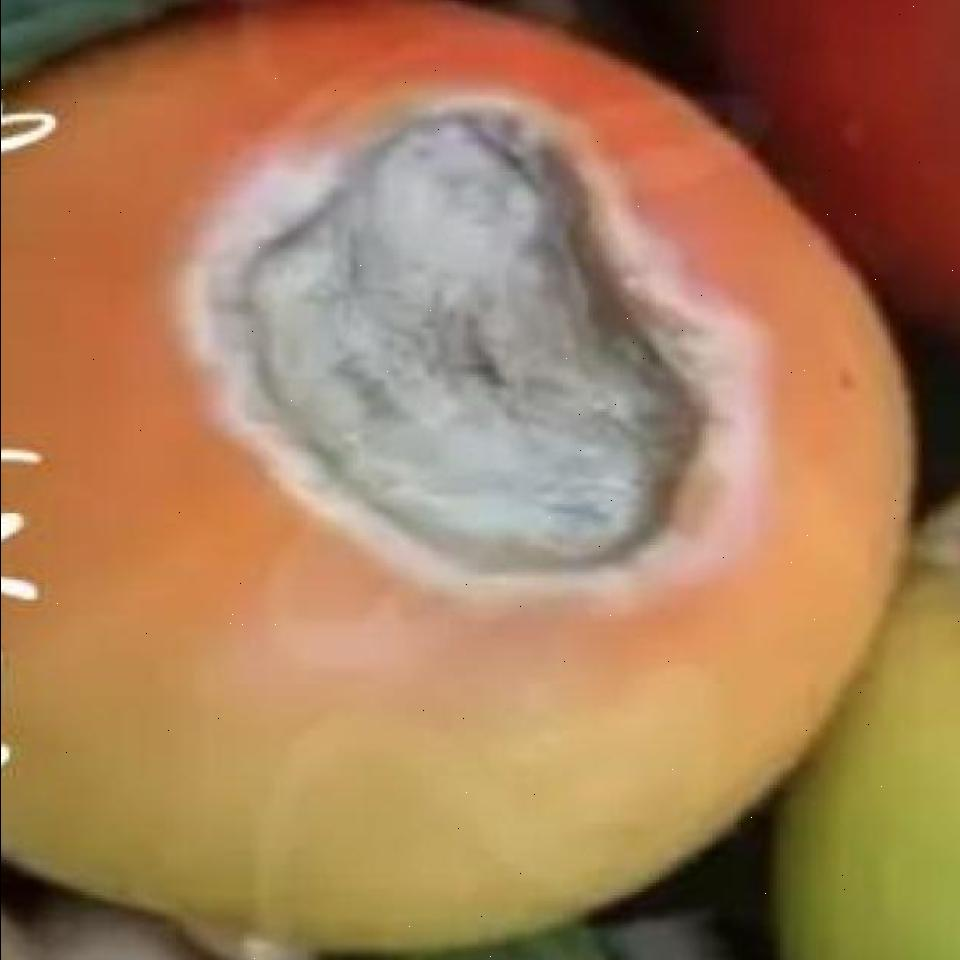Blossom_end_rot: (152, 83, 750, 619)
